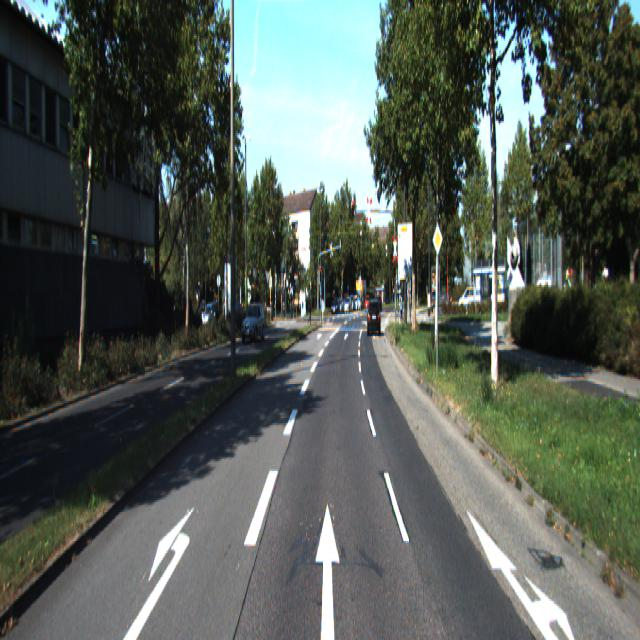Car: (241, 302, 265, 345), (458, 284, 480, 312), (368, 300, 380, 337)
